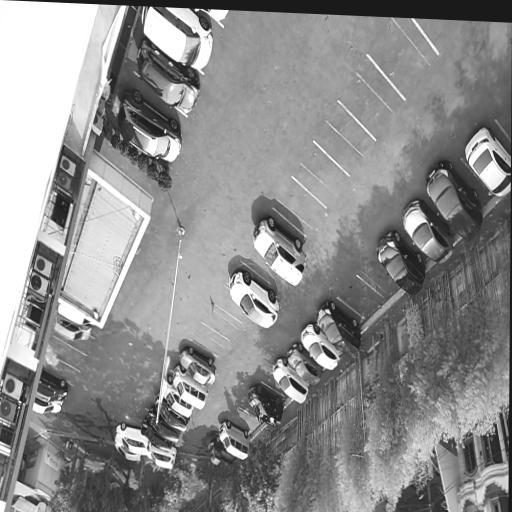Car: (113, 82, 190, 174), (131, 34, 206, 126), (138, 6, 221, 75), (35, 369, 73, 403), (52, 312, 94, 341), (57, 303, 96, 325), (193, 9, 232, 30), (31, 397, 65, 415)
Space Available: (337, 54, 406, 142), (367, 18, 439, 102), (313, 102, 376, 178), (291, 142, 349, 209), (273, 177, 327, 238), (336, 277, 384, 323), (357, 258, 400, 302), (412, 19, 460, 57), (240, 246, 278, 287), (202, 305, 243, 342), (47, 335, 87, 372), (190, 323, 230, 357), (43, 353, 80, 386), (52, 330, 94, 357), (215, 292, 248, 326), (228, 407, 261, 433), (261, 376, 290, 400), (239, 401, 265, 424), (496, 104, 511, 143)
